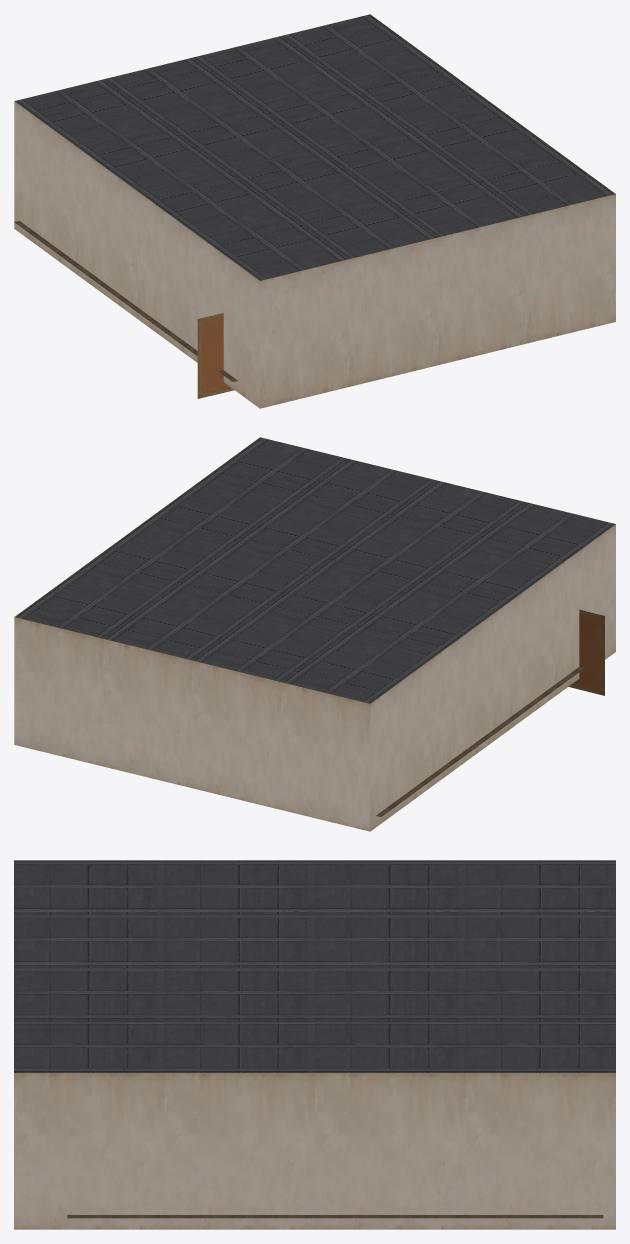
File: Level_TenryuBugyo01_NoCombine.fbx
3 renders of one model, top to bottom at view 1: azimuth 30°, elevation 25°; view 2: azimuth 150°, elevation 25°; view 3: azimuth 270°, elevation 25°, orthographic. The views are drawn at different scales.
Visible parts, largest first — view 1: Indoor_Dq_Build_TenryuBugyo_Filling_Vo, Area_Ly_Prop_Common_Blanket_A_05_Vo, Level_Hf_Build_Comp_Base_02_Vo; view 2: Indoor_Dq_Build_TenryuBugyo_Filling_Vo, Area_Ly_Prop_Common_Blanket_A_05_Vo, Level_Hf_Build_Comp_Base_02_Vo; view 3: Indoor_Dq_Build_TenryuBugyo_Filling_Vo, Level_Hf_Build_Comp_Base_02_Vo.
Part boxes in pixels (left/top/right/bottom): Indoor_Dq_Build_TenryuBugyo_Filling_Vo: left=14, top=14, right=615, bottom=408; Area_Ly_Prop_Common_Blanket_A_05_Vo: left=197, top=313, right=234, bottom=398; Level_Hf_Build_Comp_Base_02_Vo: left=14, top=221, right=237, bottom=381; Indoor_Dq_Build_TenryuBugyo_Filling_Vo: left=14, top=437, right=615, bottom=831; Area_Ly_Prop_Common_Blanket_A_05_Vo: left=568, top=609, right=604, bottom=695; Level_Hf_Build_Comp_Base_02_Vo: left=376, top=666, right=584, bottom=817; Indoor_Dq_Build_TenryuBugyo_Filling_Vo: left=14, top=860, right=615, bottom=1229; Level_Hf_Build_Comp_Base_02_Vo: left=67, top=1215, right=603, bottom=1218.
Size of what is drawn, in the model's own units: 41.67 by 14.27 by 45.8.
12 materials, 11 textured.
